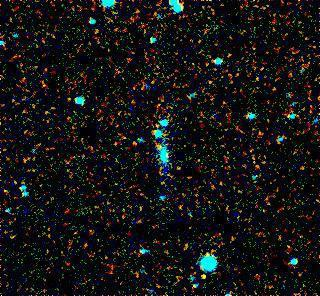star: (189, 260, 219, 290)
